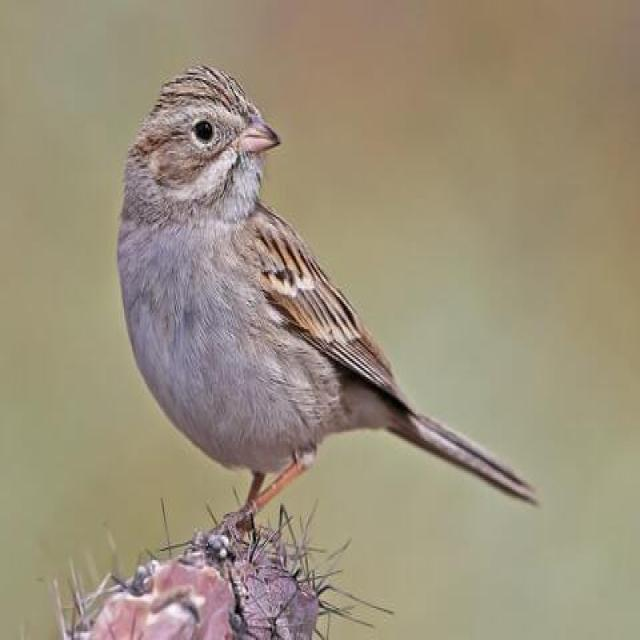Sparrow: (112, 51, 533, 538)
